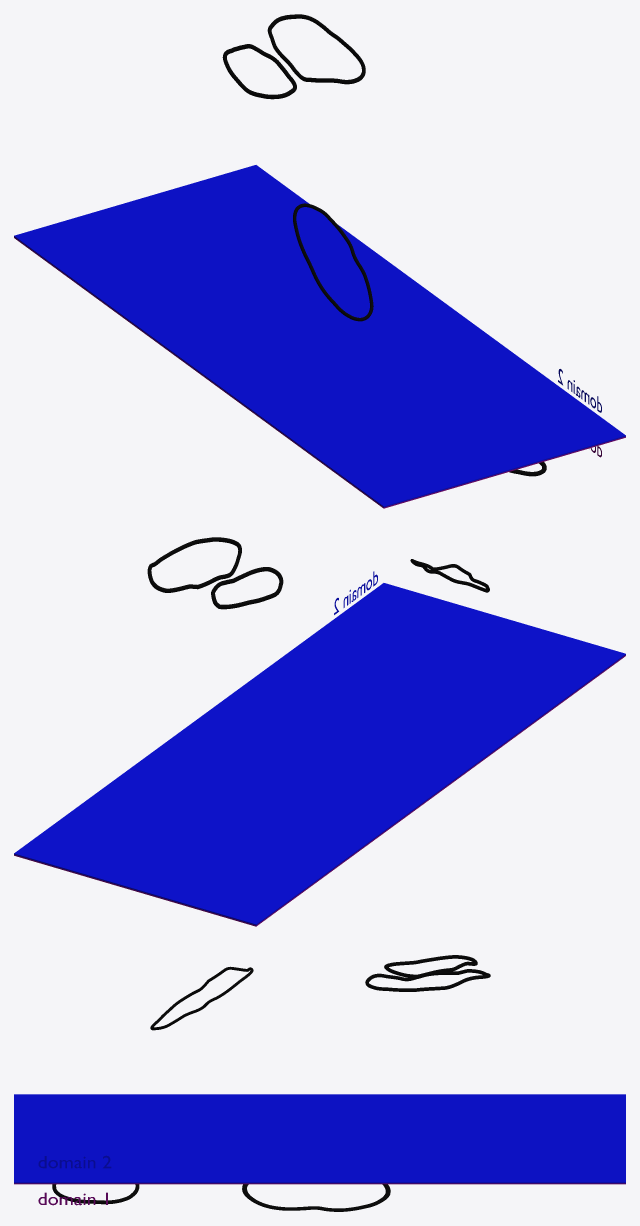
Rendered from Bottom.glb.
The picture shows the model from 3 angles, top to bottom: view 1: azimuth 30°, elevation 25°; view 2: azimuth 150°, elevation 25°; view 3: azimuth 270°, elevation 25°; orthographic projection. The views are drawn at different scales.
Visible parts, largest first — view 1: Plane, BézierCircle.002, BézierCircle.007, Plane.001, BézierCircle.006; view 2: Plane, Plane.001, BézierCircle.007, BézierCircle.006, BézierCircle.002; view 3: Plane, Plane.001, BézierCircle.007, BézierCircle.002, BézierCircle.008, BézierCircle.006, BézierCircle.009, domain 2.
Boxes of the visible parts, <box> form: Plane: <box>14,165,625,507</box>; BézierCircle.002: <box>293,203,373,321</box>; BézierCircle.007: <box>267,14,365,84</box>; Plane.001: <box>14,237,625,508</box>; BézierCircle.006: <box>222,44,296,99</box>; Plane: <box>14,583,625,925</box>; Plane.001: <box>14,655,625,926</box>; BézierCircle.007: <box>147,537,241,592</box>; BézierCircle.006: <box>211,567,283,609</box>; BézierCircle.002: <box>410,559,489,592</box>; Plane: <box>14,1094,625,1183</box>; Plane.001: <box>14,1183,625,1184</box>; BézierCircle.007: <box>365,969,490,991</box>; BézierCircle.002: <box>150,966,253,1030</box>; BézierCircle.008: <box>242,1184,390,1211</box>; BézierCircle.006: <box>384,955,477,977</box>; BézierCircle.009: <box>52,1184,139,1204</box>; domain 2: <box>38,1155,111,1168</box>.
Size of the model in its own units: 0.0552 by 0.0607 by 0.1459.
